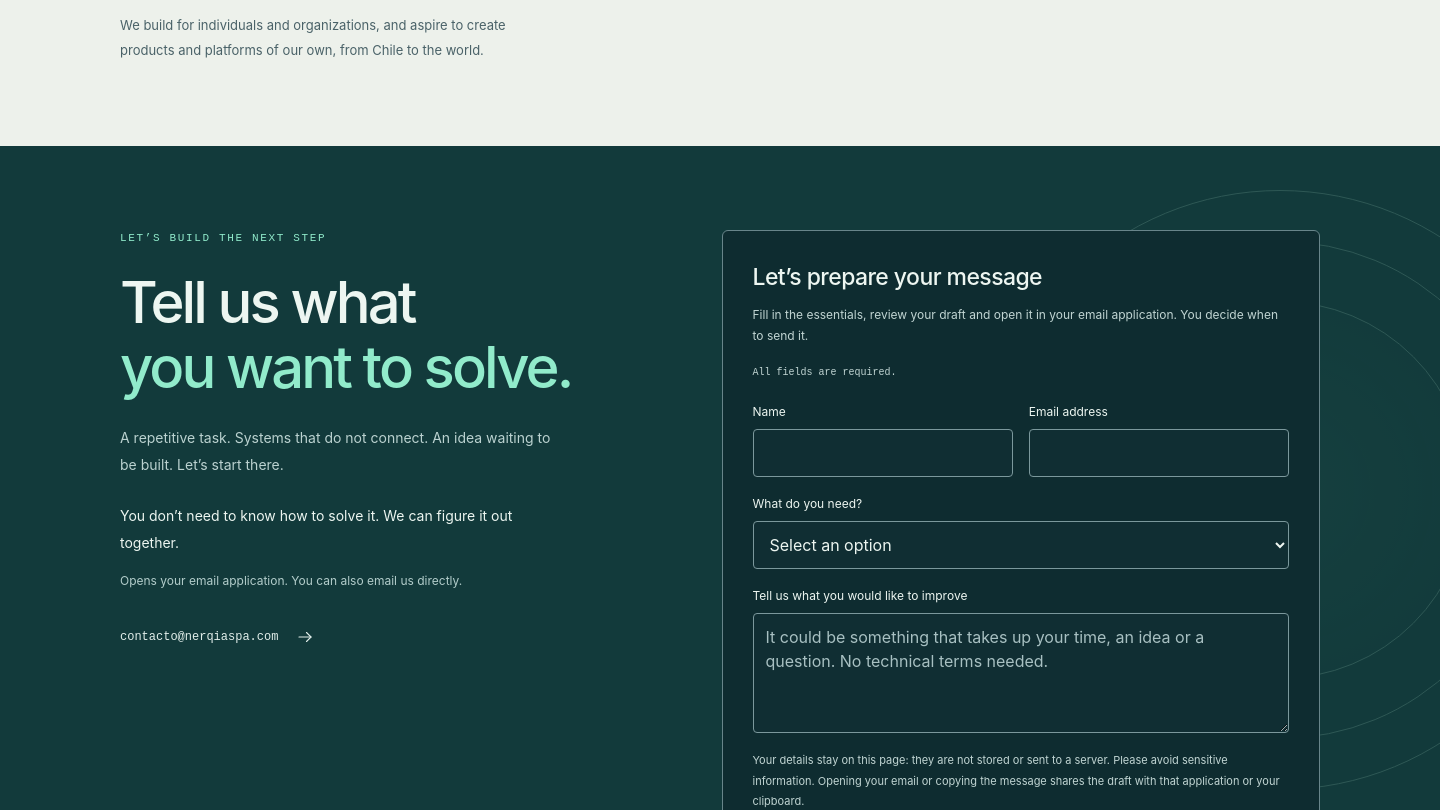
brand story and welcoming contact › prepares an orientation request in en without transport or storage
This screenshot has width=1440, height=810.
(page scrolled)
In the field labelled "Name": [883, 453] box [752, 429, 1013, 477], type "Persona QA"
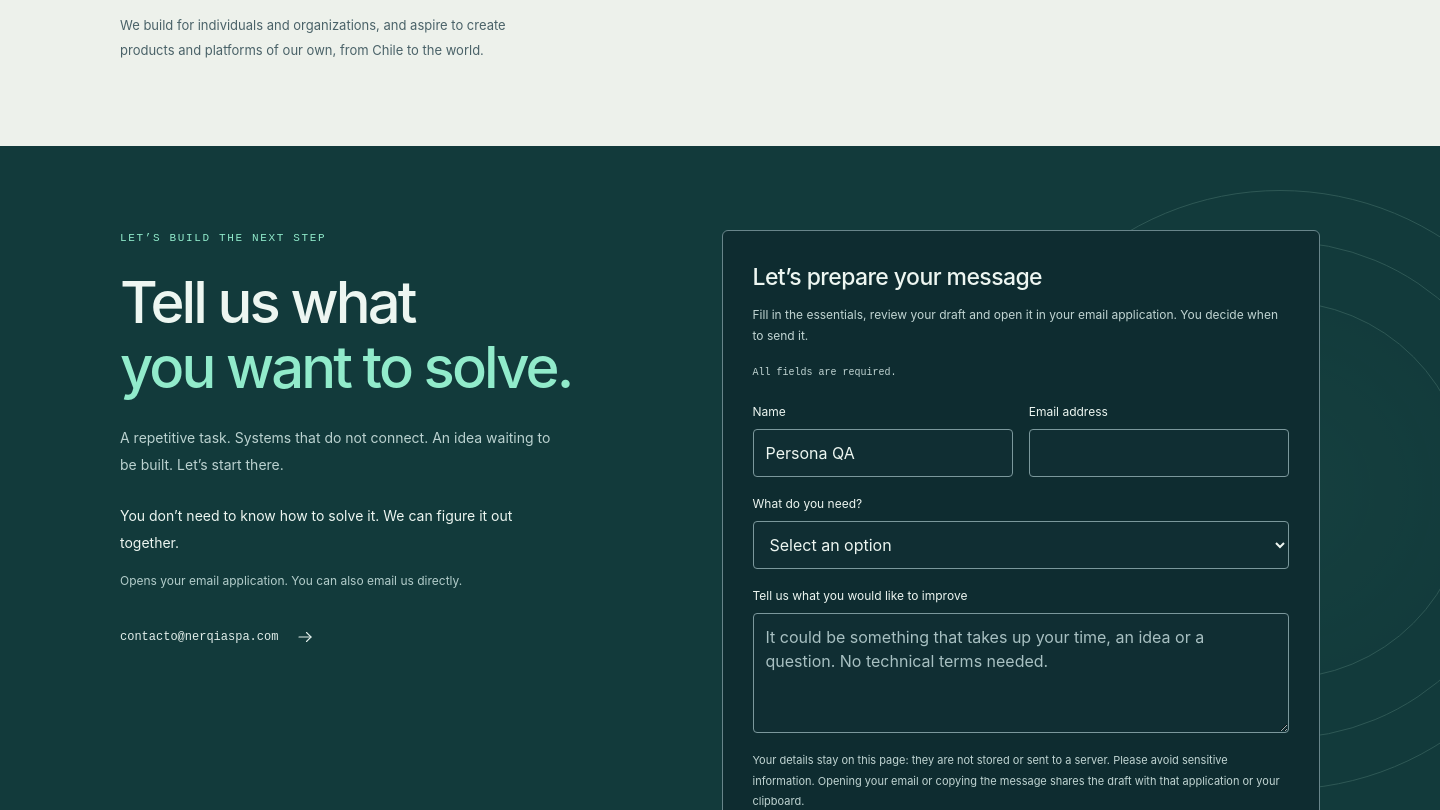
In the field labelled "Email address": [1159, 453] box [1029, 429, 1289, 477], type "qa@example.org"
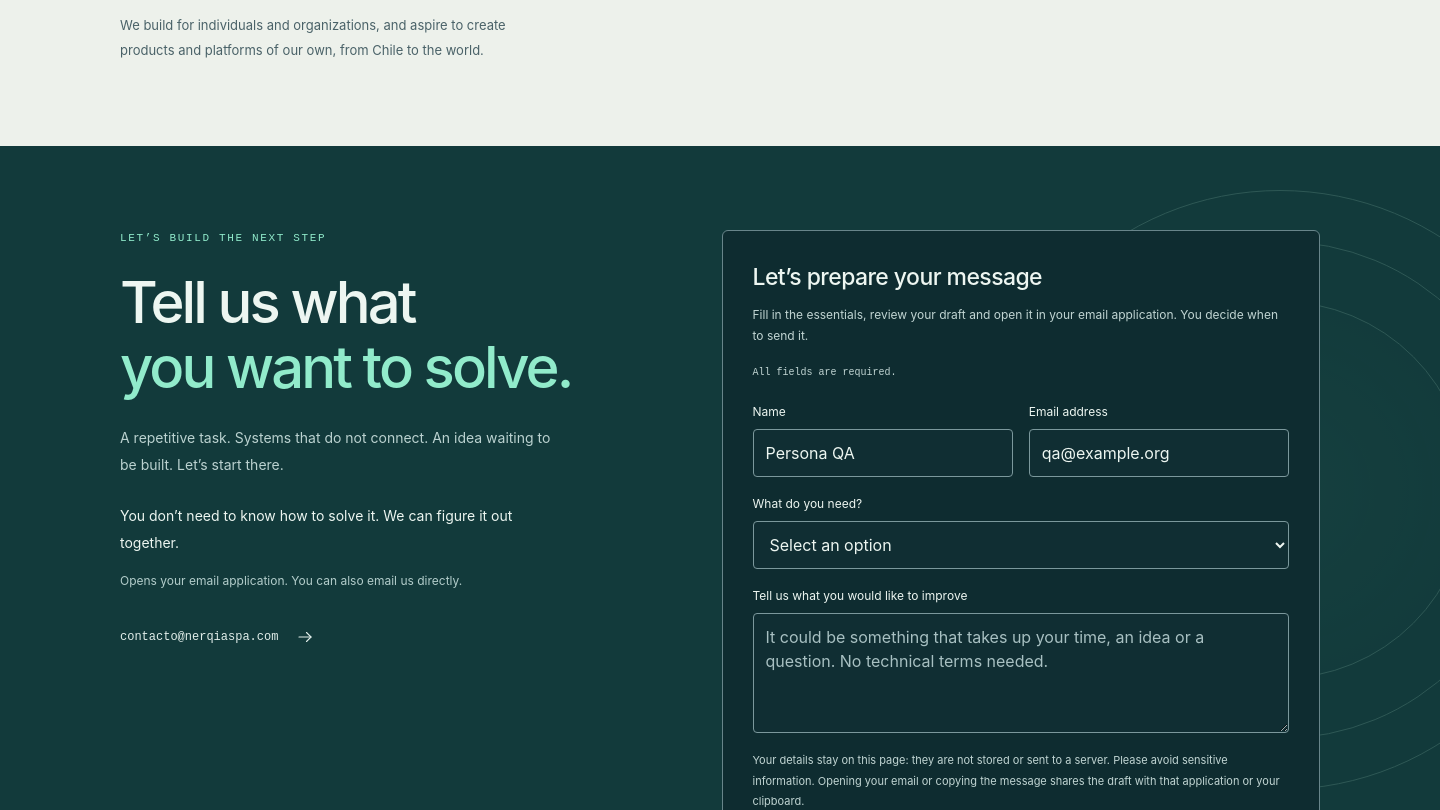
Replace the text in the text box labelled "Tell us what you would like to improve" with "Tengo una idea, pero aún no sé por dónde empezar.": [1021, 673] box [752, 613, 1289, 733]
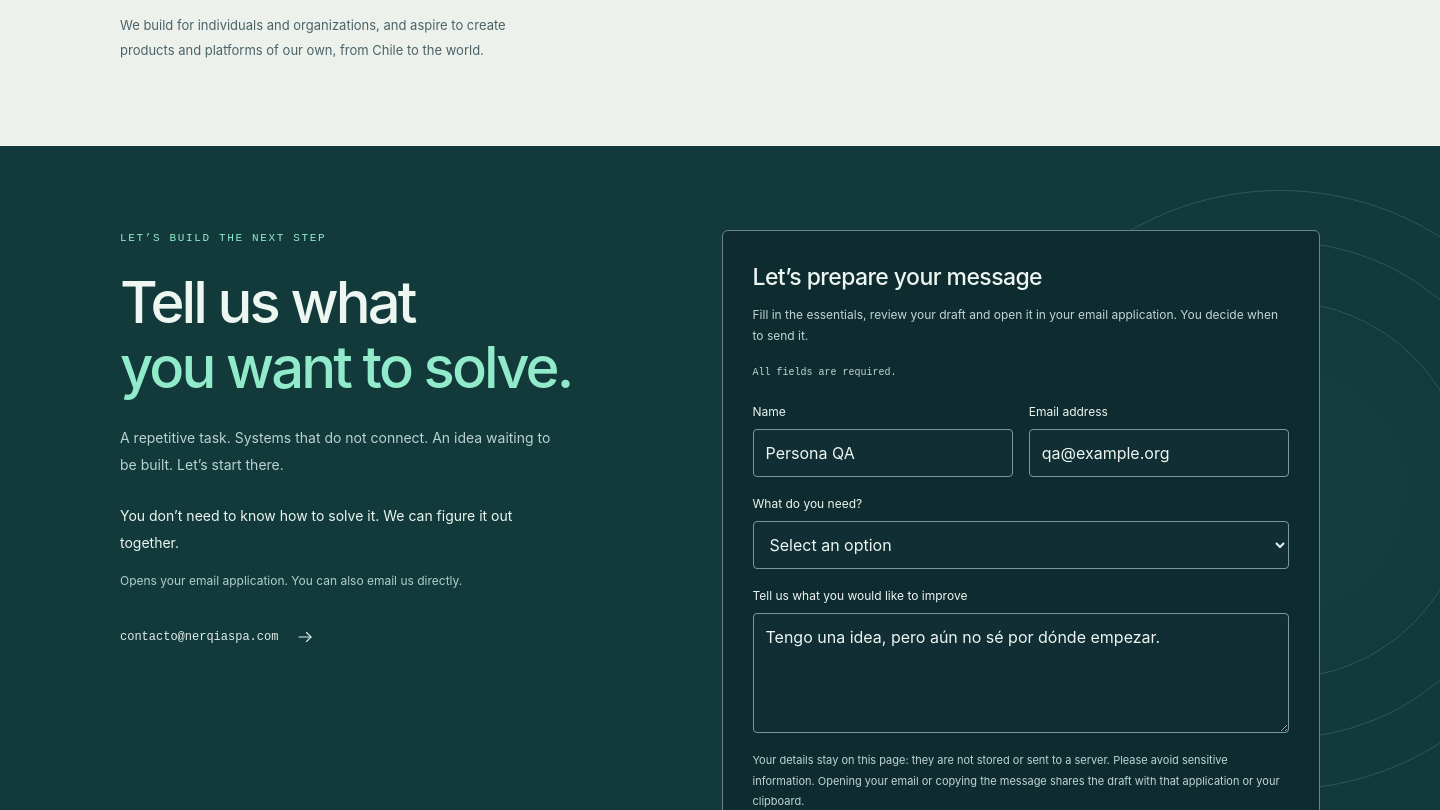
Select "I need guidance" in the dropdown labelled "What do you need?": [1021, 545] box [752, 521, 1289, 569]
(page scrolled)
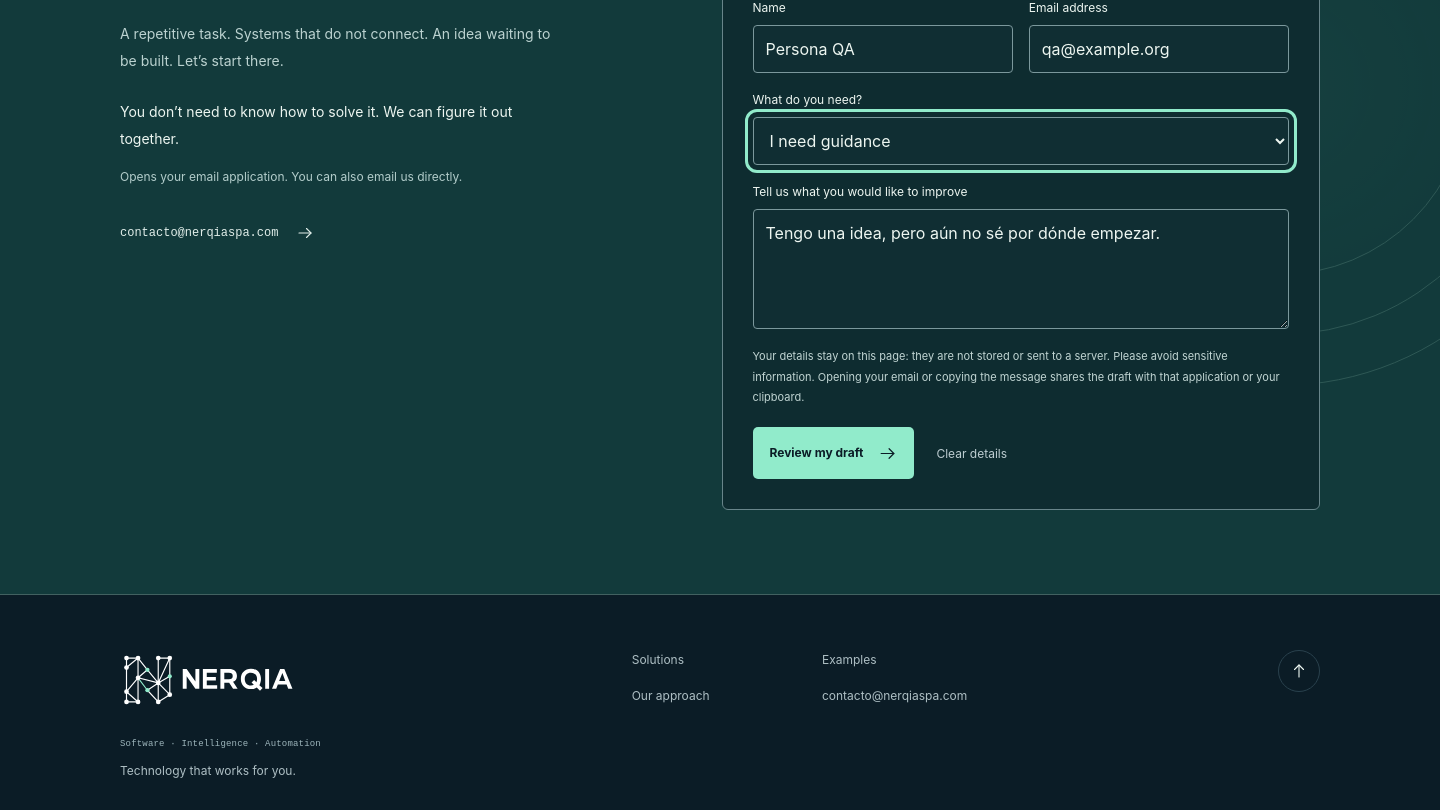
Click the button "Review my draft": [833, 453] box [752, 427, 914, 479]
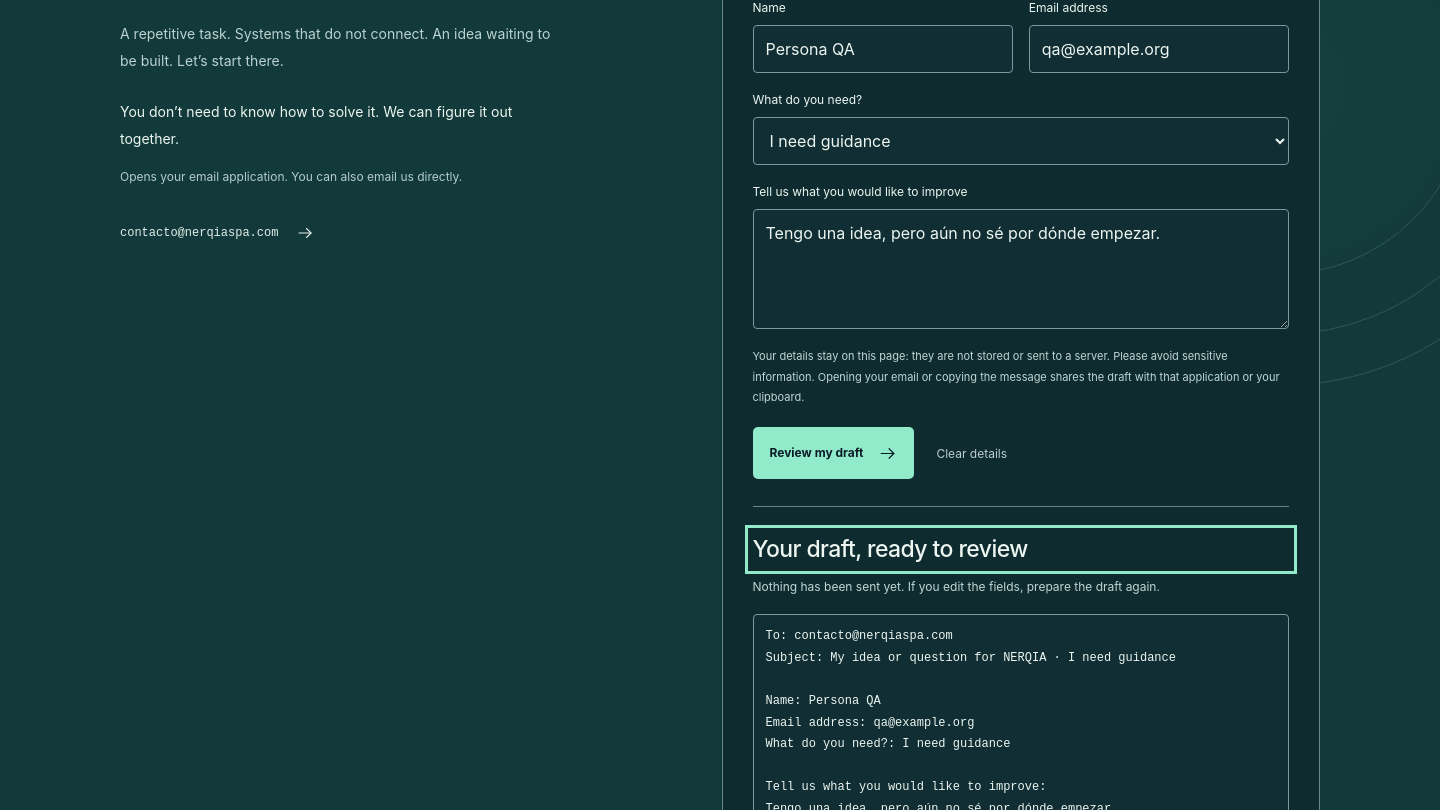
Expected: the text "Nothing has been sent yet. If you edit the fields, prepare the draft again." is shown, [752, 579, 1160, 594]
